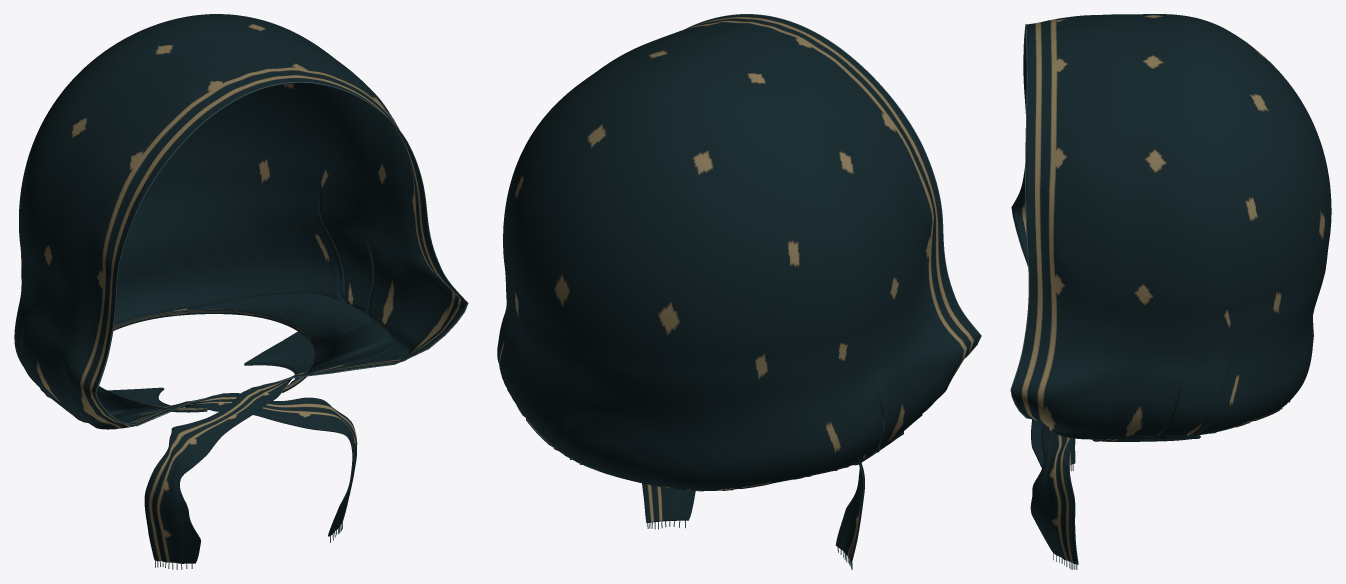
File: Feminine-Feminine-straight-tank-pashmina250-headgear-648ef9c3.glb
The picture shows the model from 3 angles, left to right: view 1: azimuth 30°, elevation 25°; view 2: azimuth 150°, elevation 25°; view 3: azimuth 270°, elevation 25°; orthographic projection. The views are drawn at different scales.
Parts seen in each view (by area): view 1: 226 headgear / Headwear / continuous woven pashmina239, 226 headgear / Headwear / face edge239; view 2: 226 headgear / Headwear / continuous woven pashmina239, 226 headgear / Headwear / face edge239; view 3: 226 headgear / Headwear / continuous woven pashmina239, 226 headgear / Headwear / face edge239.
Boxes of the visible parts, x1,y1,x2,y2 form: 226 headgear / Headwear / continuous woven pashmina239: [14, 14, 467, 563]; 226 headgear / Headwear / face edge239: [95, 81, 468, 426]; 226 headgear / Headwear / continuous woven pashmina239: [497, 14, 980, 562]; 226 headgear / Headwear / face edge239: [686, 14, 981, 357]; 226 headgear / Headwear / continuous woven pashmina239: [1011, 14, 1331, 564]; 226 headgear / Headwear / face edge239: [1010, 24, 1034, 419].
Size of the model in its own units: 0.979 by 1.23 by 0.7238.
3 materials, 1 textured.
